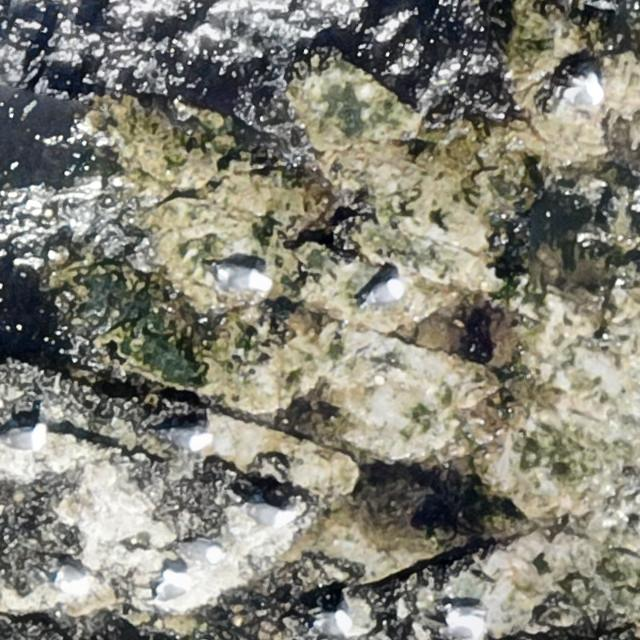umineko: (220, 261, 279, 291), (162, 424, 218, 453), (557, 75, 606, 106), (2, 420, 50, 451), (155, 569, 194, 604), (446, 607, 487, 638), (56, 560, 90, 597), (250, 501, 292, 528), (178, 540, 224, 564), (316, 612, 354, 639), (369, 280, 401, 302)
